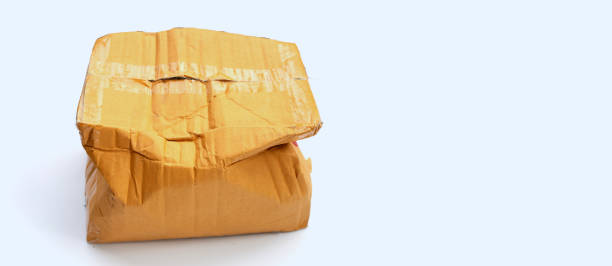damaged package: (72, 121, 159, 235), (143, 68, 237, 138), (264, 124, 323, 192)
